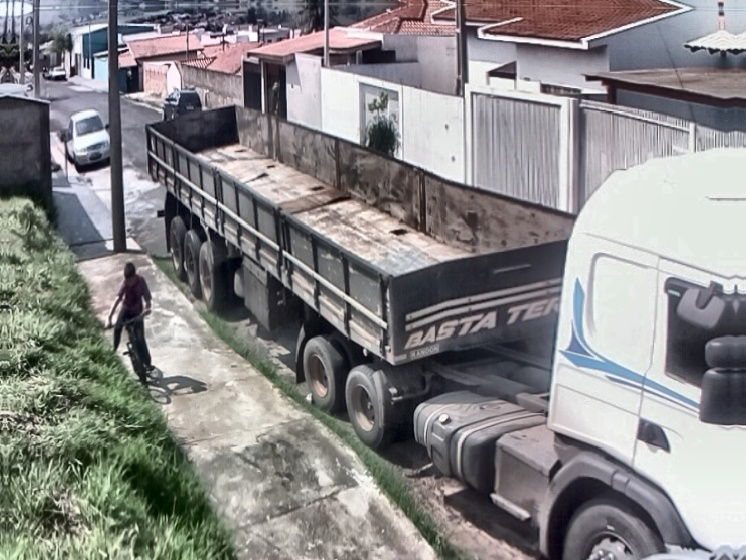person: (101, 260, 156, 373)
